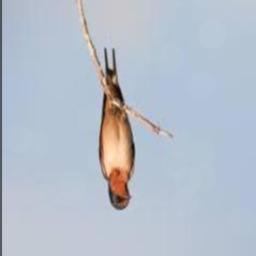Swallow: (99, 49, 134, 210)
